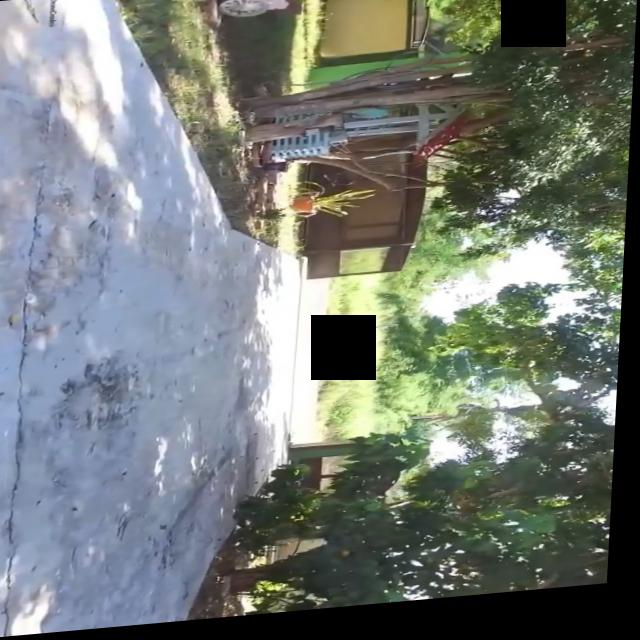Building: (300, 0, 432, 281)
Tree: (220, 263, 627, 622), (232, 0, 640, 283)
